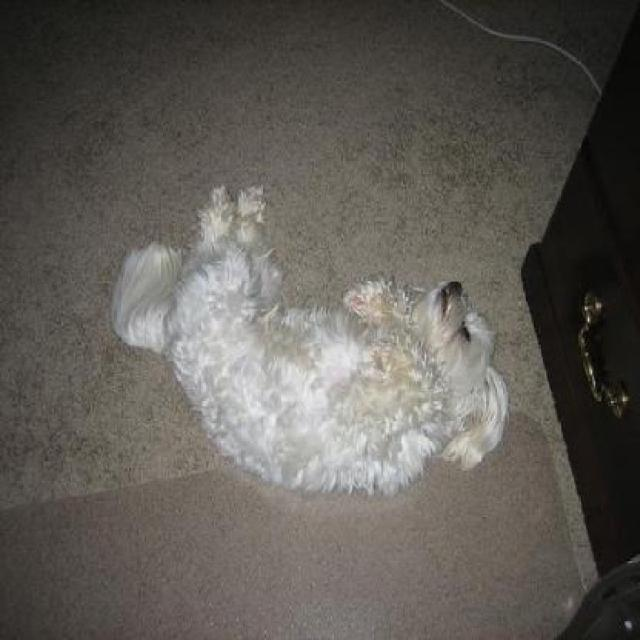Dog: (103, 176, 515, 510)
